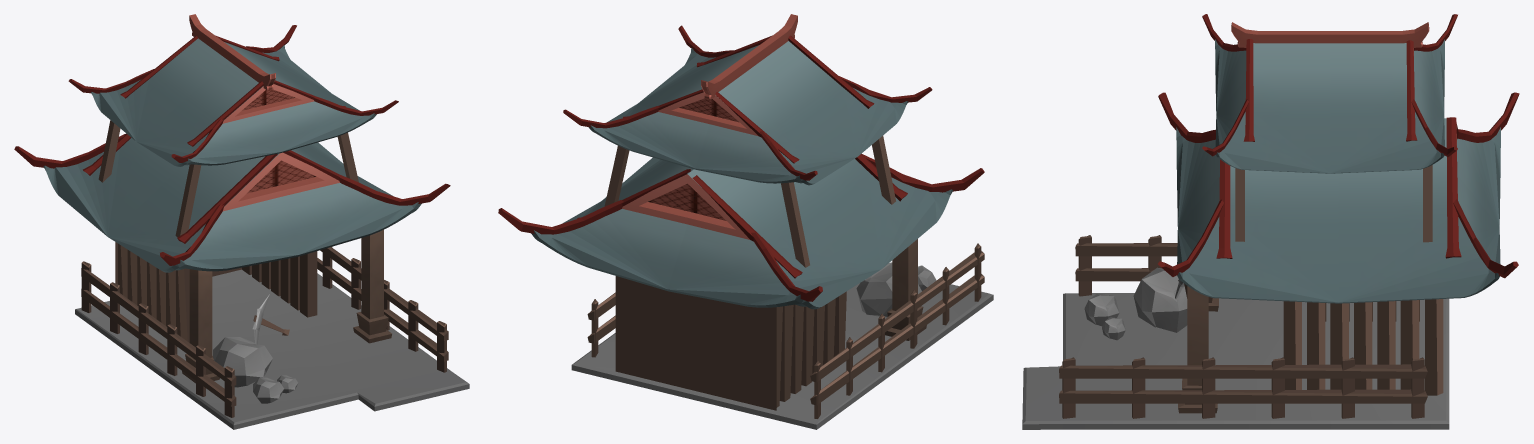
Rendered from mine_3lvl.fbx.
3 renders of one model, left to right at view 1: azimuth 30°, elevation 25°; view 2: azimuth 150°, elevation 25°; view 3: azimuth 270°, elevation 25°, orthographic. The views are drawn at different scales.
Parts seen in each view (by area): view 1: mine_3lvl; view 2: mine_3lvl; view 3: mine_3lvl.
Boxes of the visible parts, <box> form: mine_3lvl: <box>14,14,469,429</box>; mine_3lvl: <box>498,14,993,429</box>; mine_3lvl: <box>1022,14,1519,429</box>.
Bounding box in the file's own units: 5.26 × 4.83 × 6.4.
1 material, 1 textured.
